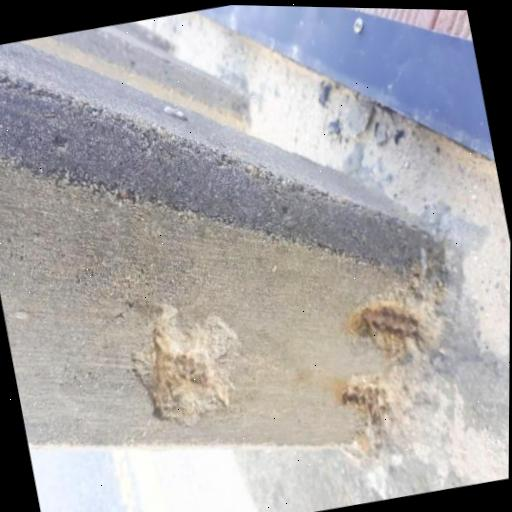exposed_rebar: (366, 311, 417, 331), (343, 393, 359, 404)
